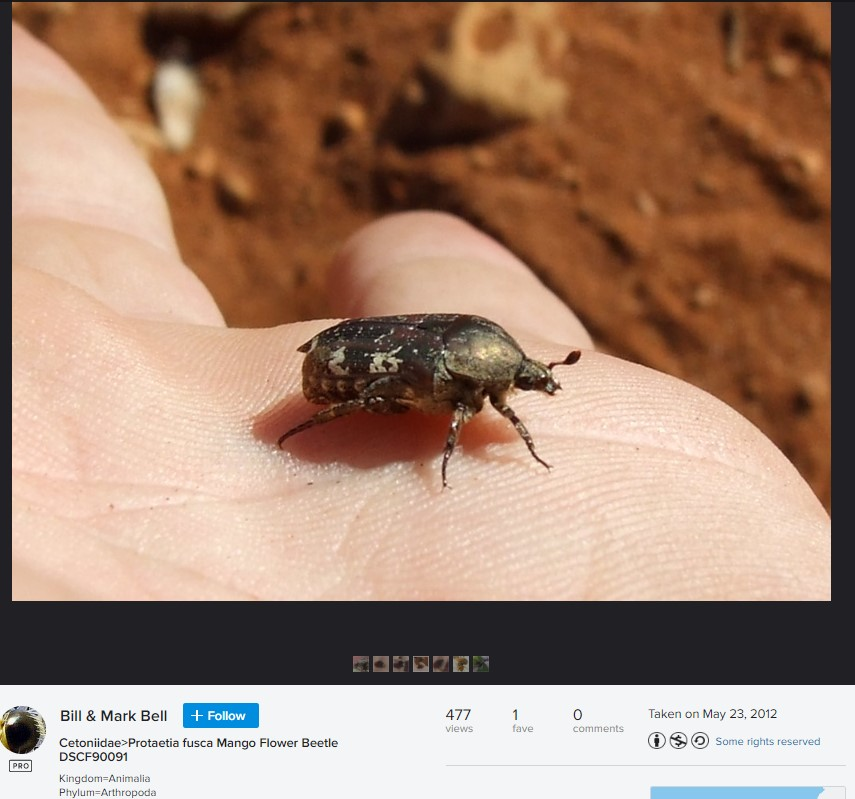Protaetia_fusca: (270, 308, 589, 495)
